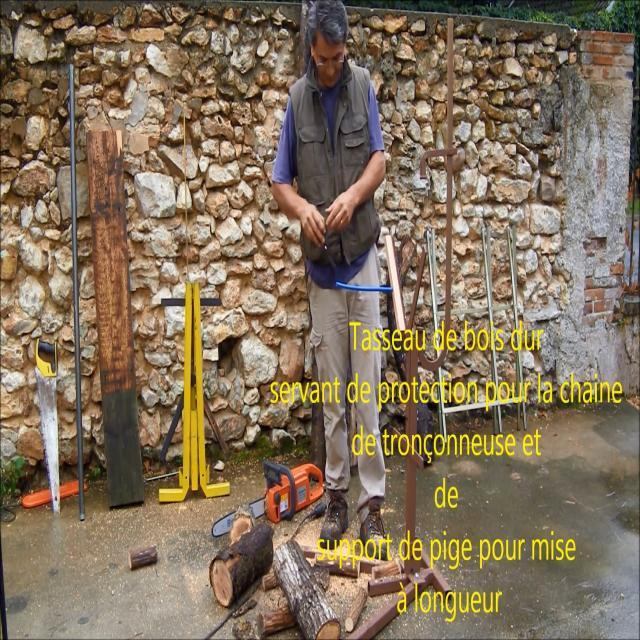Chainsaw: (208, 432, 337, 564)
